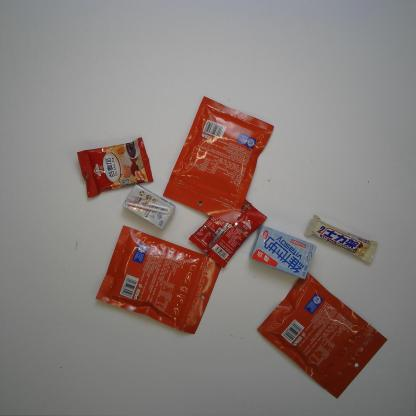Chocolate: (304, 214, 380, 264)
Dried Fruit: (257, 272, 388, 400), (162, 96, 275, 225), (95, 225, 222, 335)
Instant Drink: (189, 197, 268, 269), (77, 137, 153, 198)
Milk: (249, 224, 317, 280), (122, 183, 176, 230)
